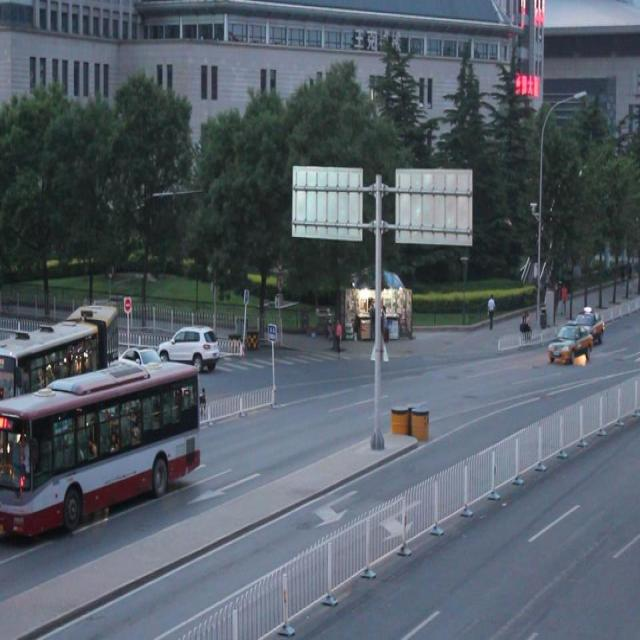car: (159, 324, 219, 372), (120, 342, 166, 386), (546, 324, 592, 362)
van: (1, 356, 201, 542), (1, 307, 121, 403)
